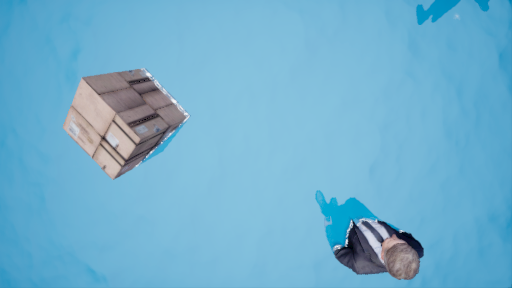person: (306, 184, 426, 280)
